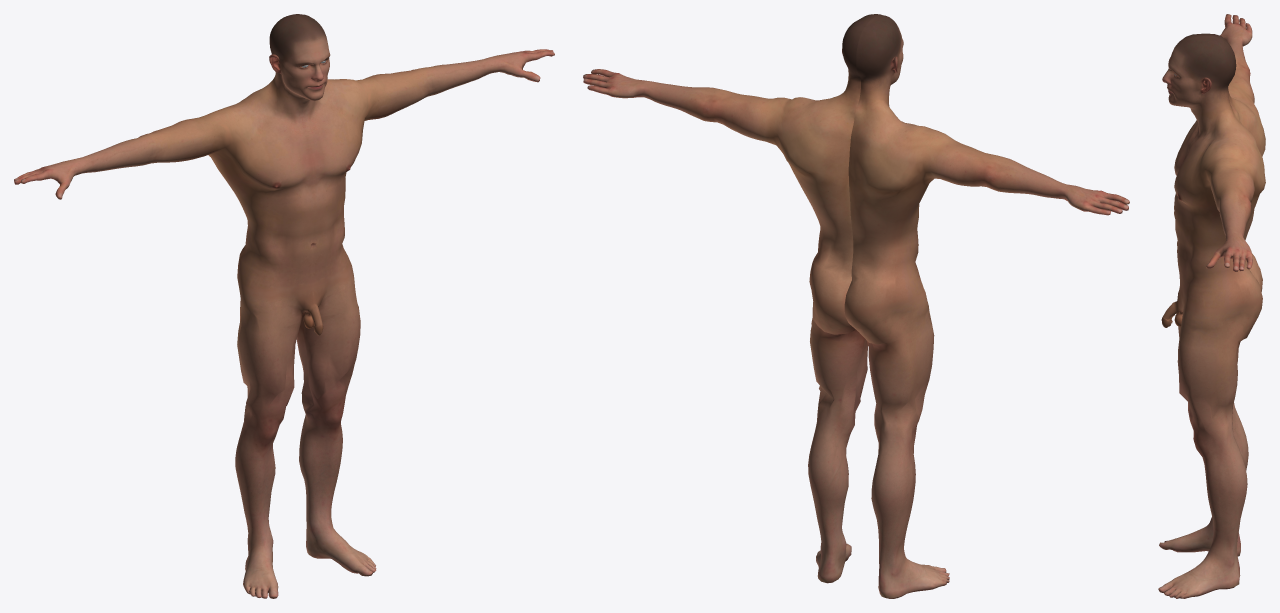
Rendered from T pose.fbx.
The picture shows the model from 3 angles, left to right: view 1: azimuth 30°, elevation 25°; view 2: azimuth 150°, elevation 25°; view 3: azimuth 270°, elevation 25°; orthographic projection. The views are drawn at different scales.
Visible parts, largest first — view 1: body; view 2: body; view 3: body.
Boxes of the visible parts, left/top/right/bottom form: body: left=14, top=14, right=554, bottom=598; body: left=583, top=14, right=1129, bottom=598; body: left=1158, top=14, right=1265, bottom=598.
Size of the model in its own units: 18.88 by 18.58 by 3.39.
